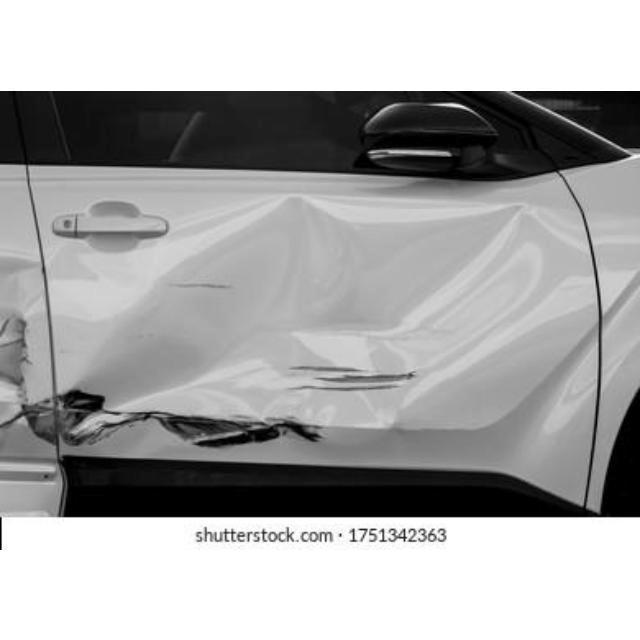doorouter-dent: (42, 169, 585, 515)
